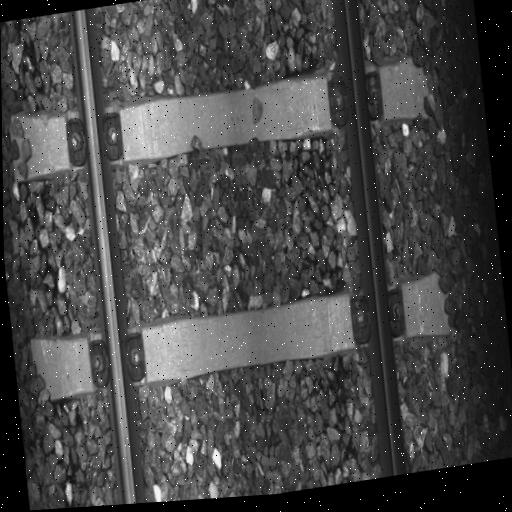clip: (347, 282, 407, 345), (64, 109, 123, 168), (87, 330, 147, 387), (326, 67, 384, 123)
sleeper: (4, 45, 436, 196), (26, 265, 462, 413)
